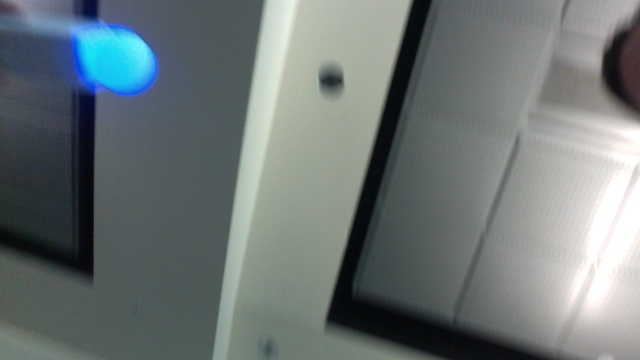wand: (84, 30, 159, 96)
